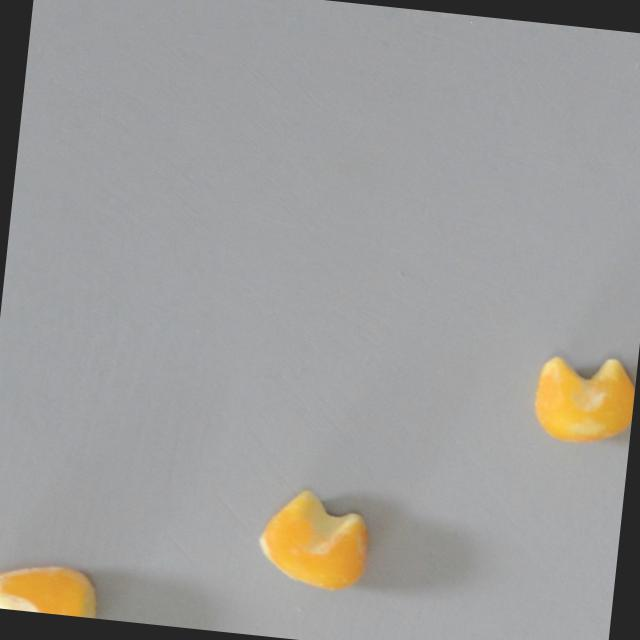no_canjicado: (256, 486, 373, 595)
pelicula: (528, 349, 638, 449), (0, 560, 99, 618)
